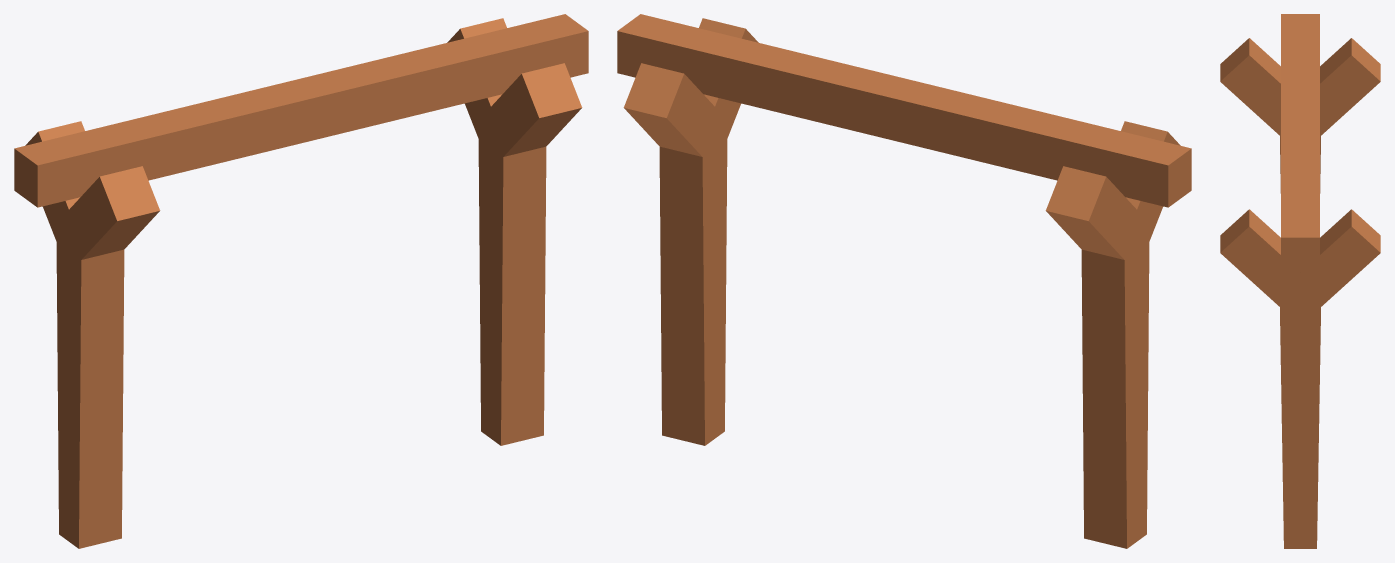
File: pit.obj
3 views of the same model, side by side, from view 1: azimuth 30°, elevation 25°; view 2: azimuth 150°, elevation 25°; view 3: azimuth 270°, elevation 25° (orthographic). The views are drawn at different scales.
Visible parts, largest first — view 1: campfire-stand; view 2: campfire-stand; view 3: campfire-stand.
Part boxes in pixels (box(x1,y1,x2,y2)): campfire-stand: box(14, 14, 588, 548); campfire-stand: box(617, 14, 1191, 548); campfire-stand: box(1220, 14, 1380, 548).
Bounding box in the file's own units: 0.41 × 0.281 × 0.1245.
